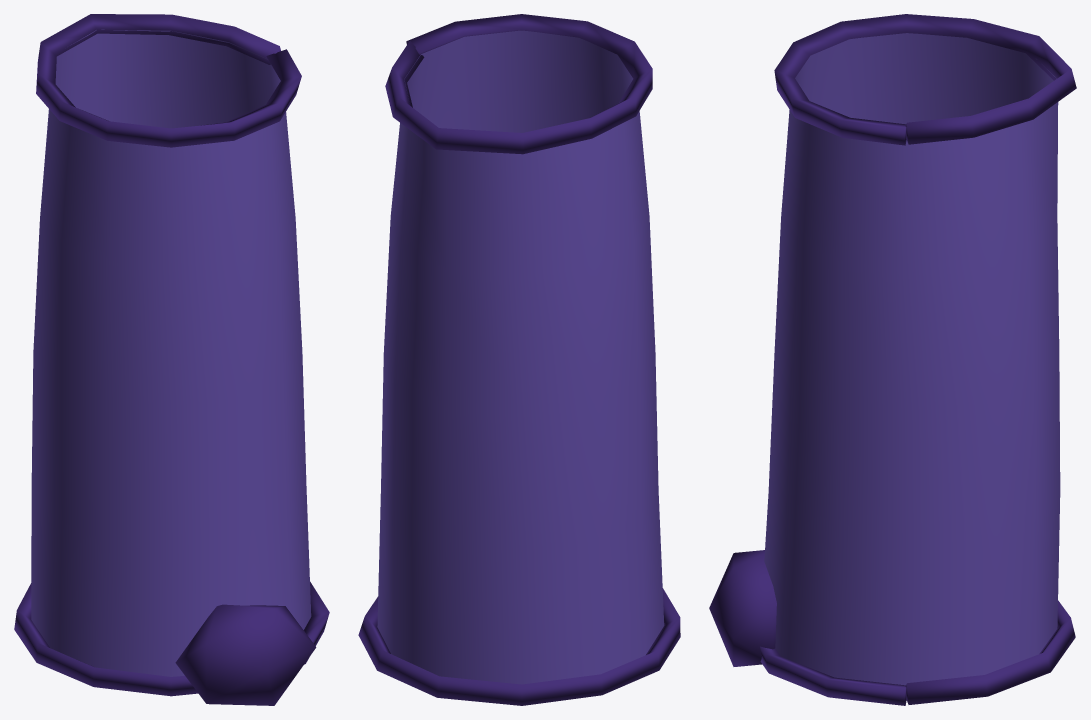
Rendered from demonite_armor_greave.R.glb.
3 views of the same model, side by side, from view 1: azimuth 30°, elevation 25°; view 2: azimuth 150°, elevation 25°; view 3: azimuth 270°, elevation 25° (orthographic). The views are drawn at different scales.
Visible parts, largest first — view 1: demonite_armor_greave.R; view 2: demonite_armor_greave.R; view 3: demonite_armor_greave.R.
Boxes of the visible parts, <box> form: demonite_armor_greave.R: <box>14,14,329,705</box>; demonite_armor_greave.R: <box>358,14,680,705</box>; demonite_armor_greave.R: <box>709,14,1076,705</box>.
Size of the model in its own units: 0.1998 by 0.4044 by 0.2286.
